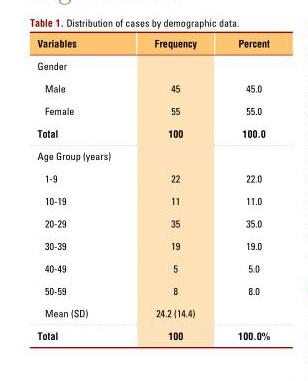table: (36, 36, 269, 341)
table column: (36, 36, 131, 341), (131, 36, 216, 341), (216, 36, 269, 341)
table column header: (36, 36, 269, 54)
table projected row header: (36, 54, 269, 76), (36, 144, 269, 166)
table row: (36, 98, 269, 121), (36, 121, 269, 144), (36, 166, 269, 189), (36, 211, 269, 234), (36, 278, 269, 301), (36, 54, 269, 76), (36, 76, 269, 98), (36, 144, 269, 166), (36, 189, 269, 211), (36, 234, 269, 256), (36, 256, 269, 278), (36, 301, 269, 323), (36, 36, 269, 54), (36, 323, 269, 341)
